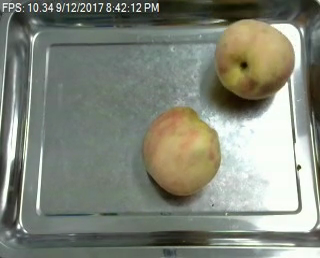Peach: (141, 105, 222, 195), (213, 19, 296, 100)
